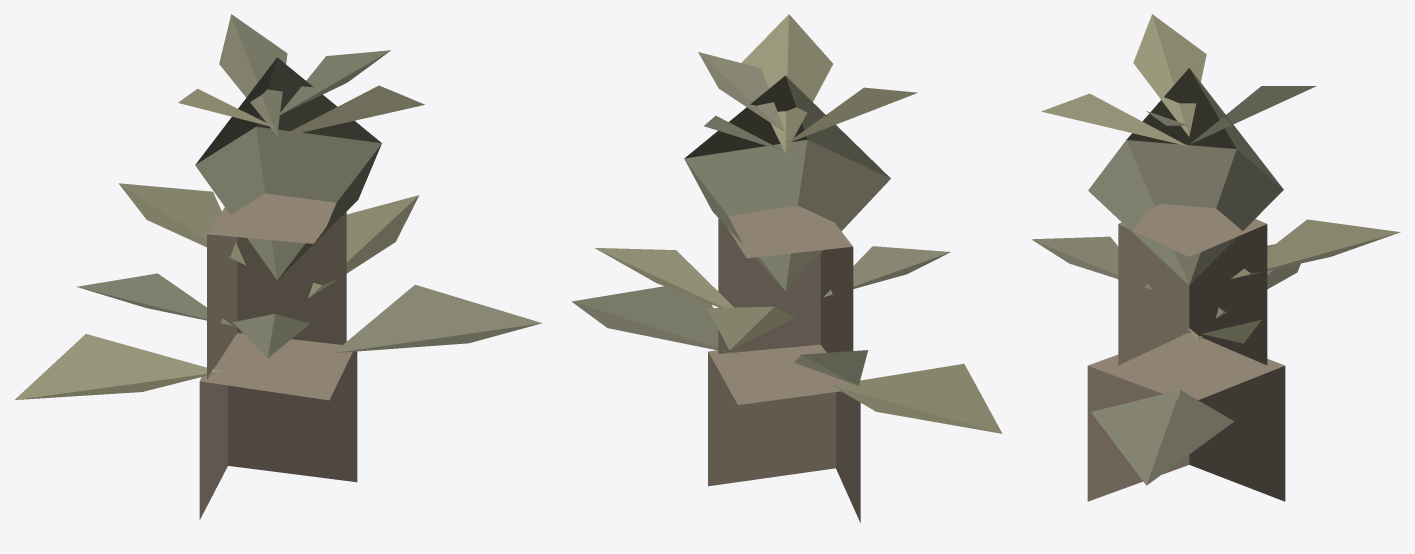
The model's file is cao.yangmao@seedling__winter.glb.
3 renders of one model, left to right at view 1: azimuth 30°, elevation 25°; view 2: azimuth 150°, elevation 25°; view 3: azimuth 270°, elevation 25°, orthographic. The views are drawn at different scales.
Visible parts, largest first — view 1: cao.yangmao@seedling__winter; view 2: cao.yangmao@seedling__winter; view 3: cao.yangmao@seedling__winter.
Boxes of the visible parts, <box> form: cao.yangmao@seedling__winter: <box>15,14,542,519</box>; cao.yangmao@seedling__winter: <box>571,14,1002,522</box>; cao.yangmao@seedling__winter: <box>1031,14,1400,501</box>.
Bounding box in the file's own units: 0.0907 × 0.079 × 0.061.
